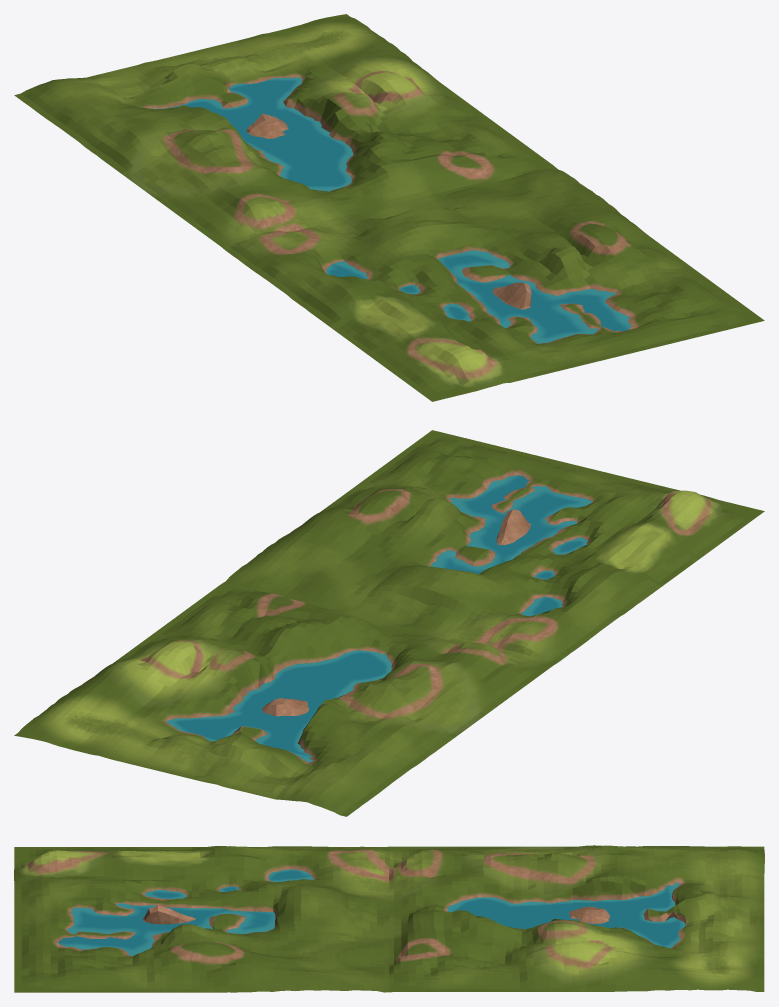
The model's file is green environment.fbx.
3 views of the same model, one above another, from view 1: azimuth 30°, elevation 25°; view 2: azimuth 150°, elevation 25°; view 3: azimuth 270°, elevation 25° (orthographic). The views are drawn at different scales.
Parts seen in each view (by area): view 1: Plane.003, Plane.002, Plane; view 2: Plane.003, Plane.002, Plane; view 3: Plane.003, Plane.002, Plane.
Boxes of the visible parts, box(x1,y1,x2,y2) form: Plane.003: box(14, 14, 764, 401); Plane.002: box(151, 77, 353, 191); Plane: box(326, 250, 631, 343); Plane.003: box(14, 430, 764, 816); Plane.002: box(166, 650, 391, 762); Plane: box(430, 475, 592, 616); Plane.003: box(14, 845, 764, 992); Plane.002: box(447, 883, 685, 948); Plane: box(58, 869, 313, 956).
Size of the model in its own units: 324725 by 43239 by 706389.
Materials: 1 (1 with a texture image).
